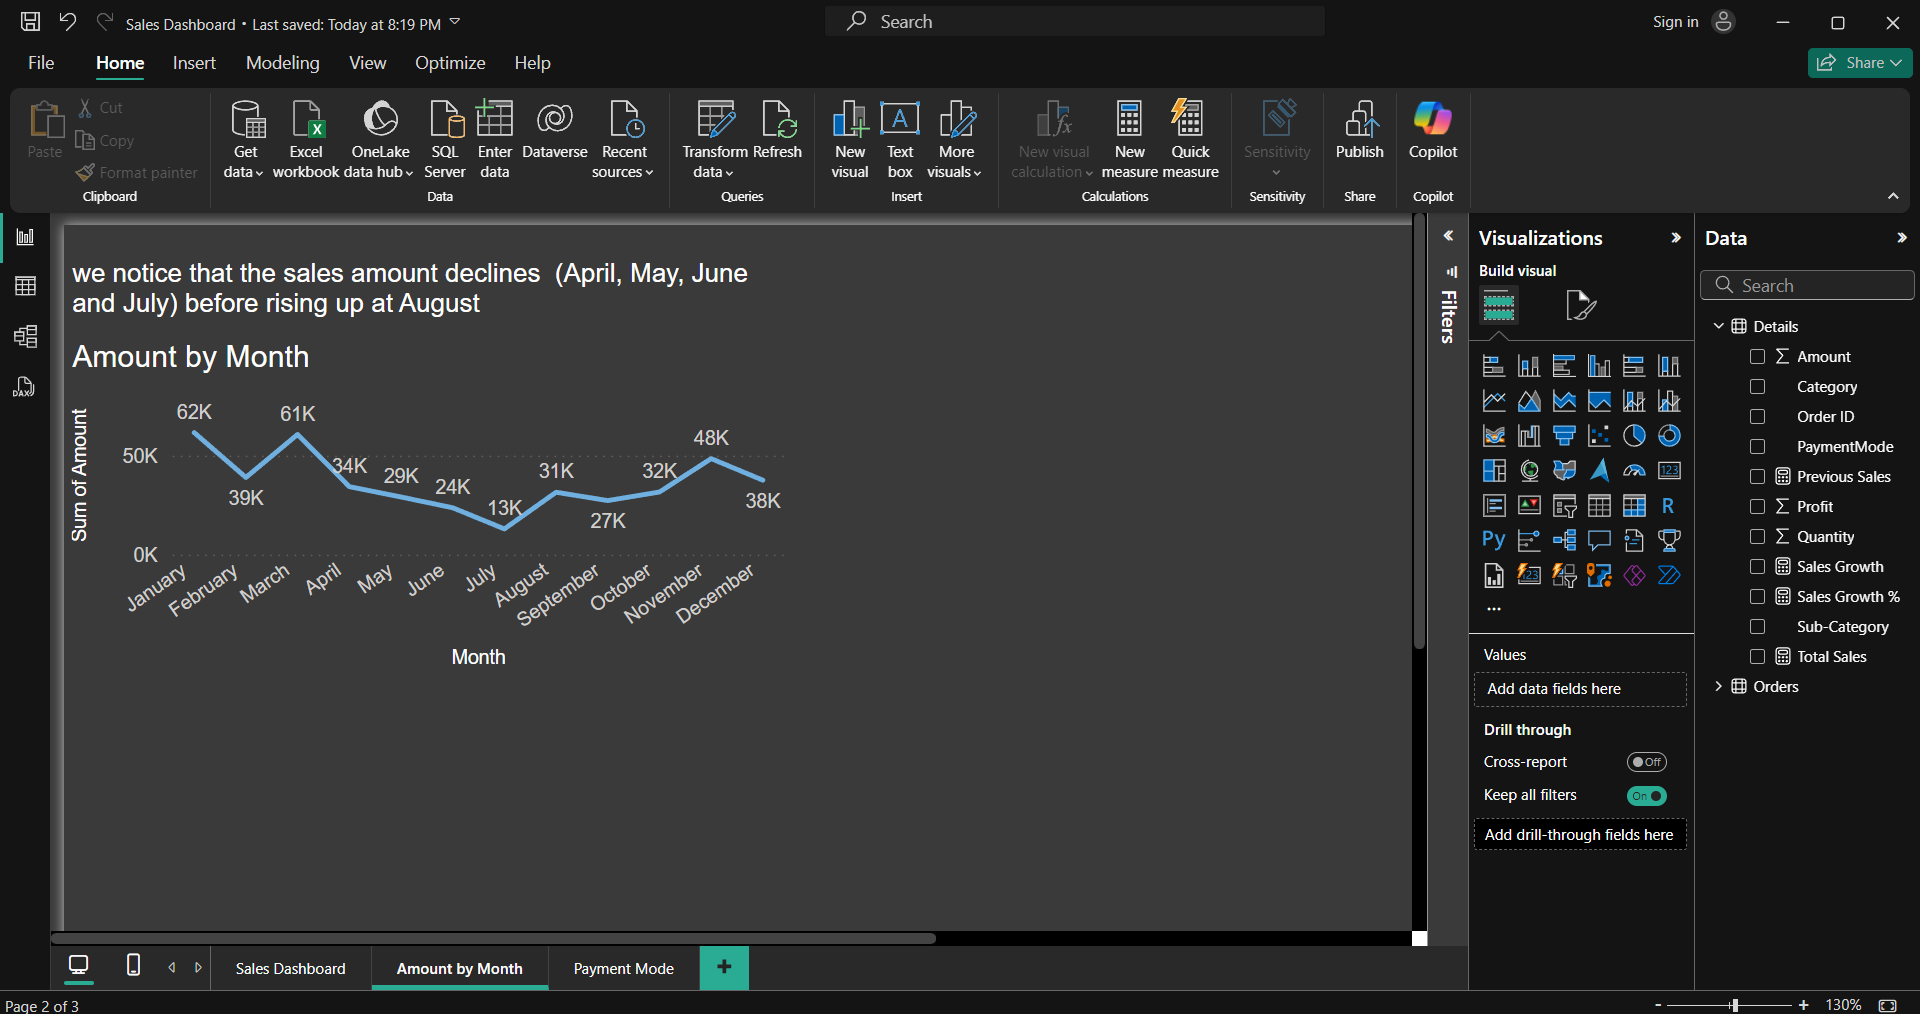

What the dashboard file says about the page in this screenshot:
{"tool":"powerbi","page":{"name":"Amount by Month","canvas":[1280,720],"ordinal":1},"visuals":[{"type":"lineChart","title":" Amount by Month","fields":{"Category":["Orders.Order Date.Variation.Date Hierarchy.Month"],"Y":["Sum(Details.Amount)"]},"box":[0,70.9,448,206.9],"z":0},{"type":"textbox","box":[0,0,448.2,68.2],"z":1000}]}

Visuals, with their boxes on the page's 1280x720 design canvas (x1, y1, x2, y2). These are canvas units, not pixel positions in the 1920x1014 screenshot, which may show the page scaled, cropped or inside an application window:
" Amount by Month" lineChart: x1=0, y1=71, x2=448, y2=278
textbox: x1=0, y1=0, x2=448, y2=68
